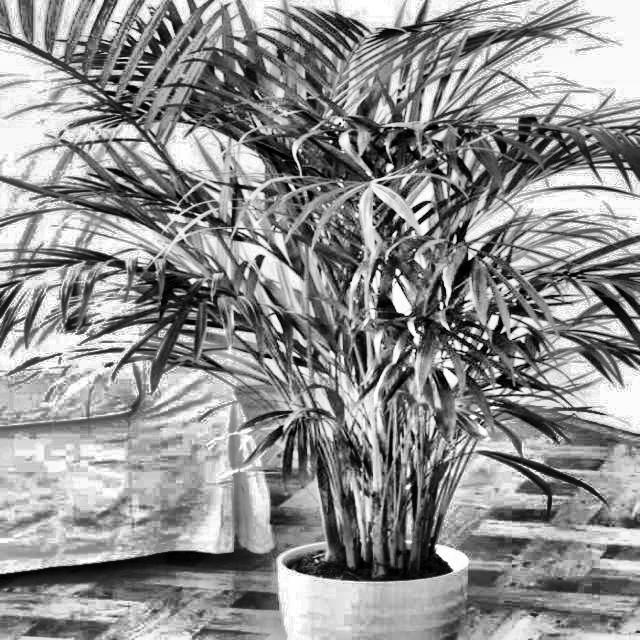plants: (198, 20, 586, 640)
